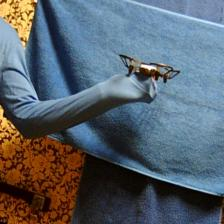drone: (118, 55, 182, 83)
